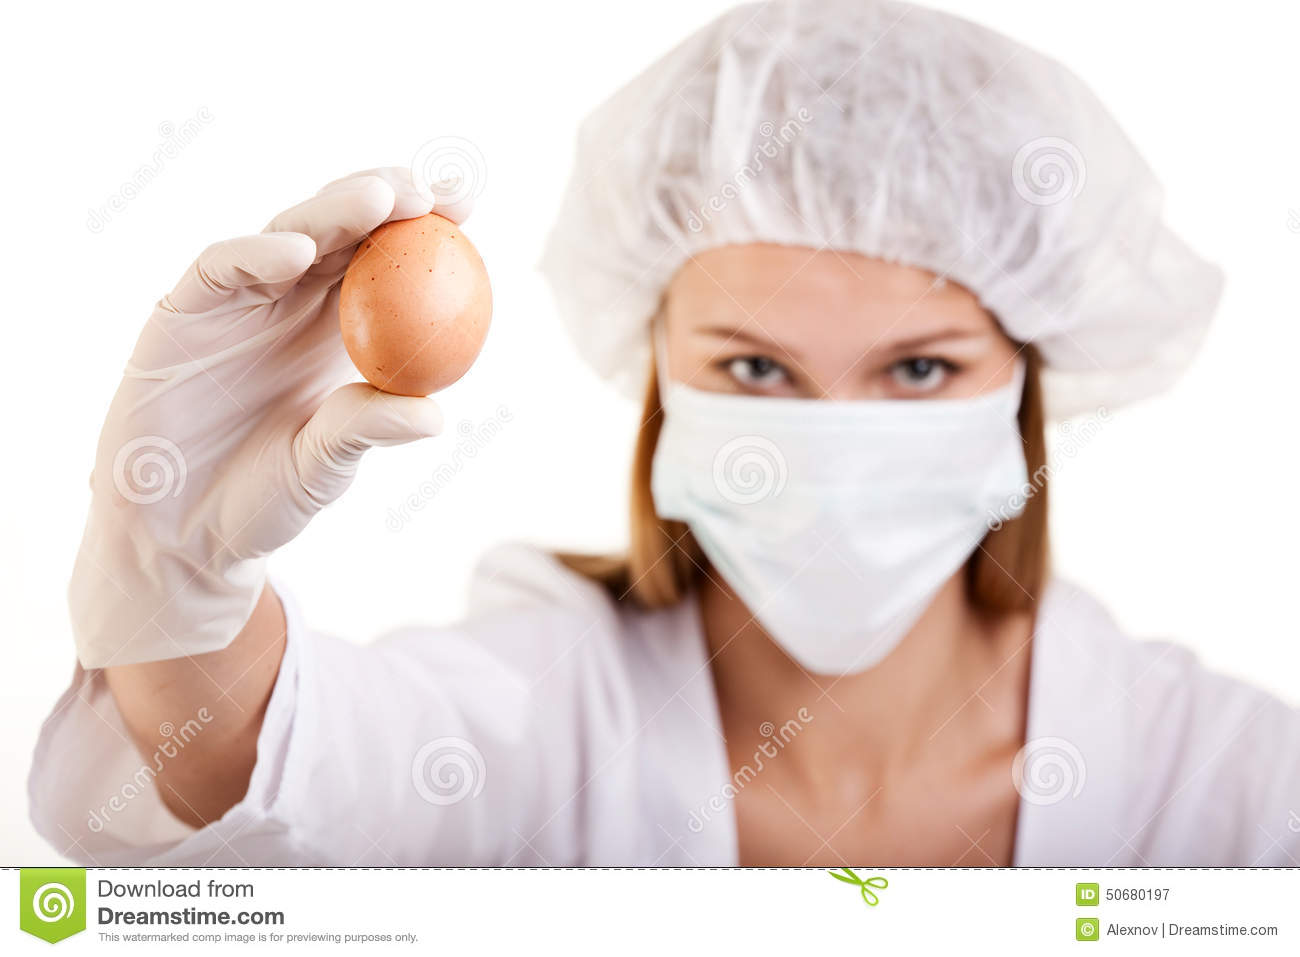mask: (653, 380, 1051, 682)
